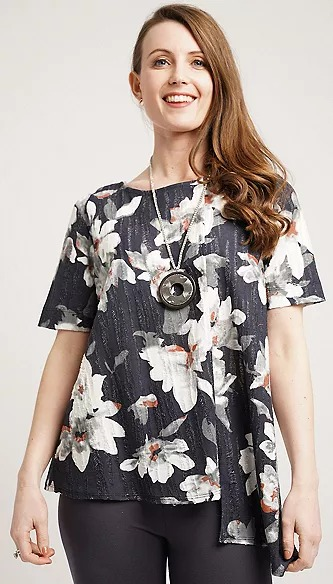C_short blouse: (37, 166, 324, 581)
